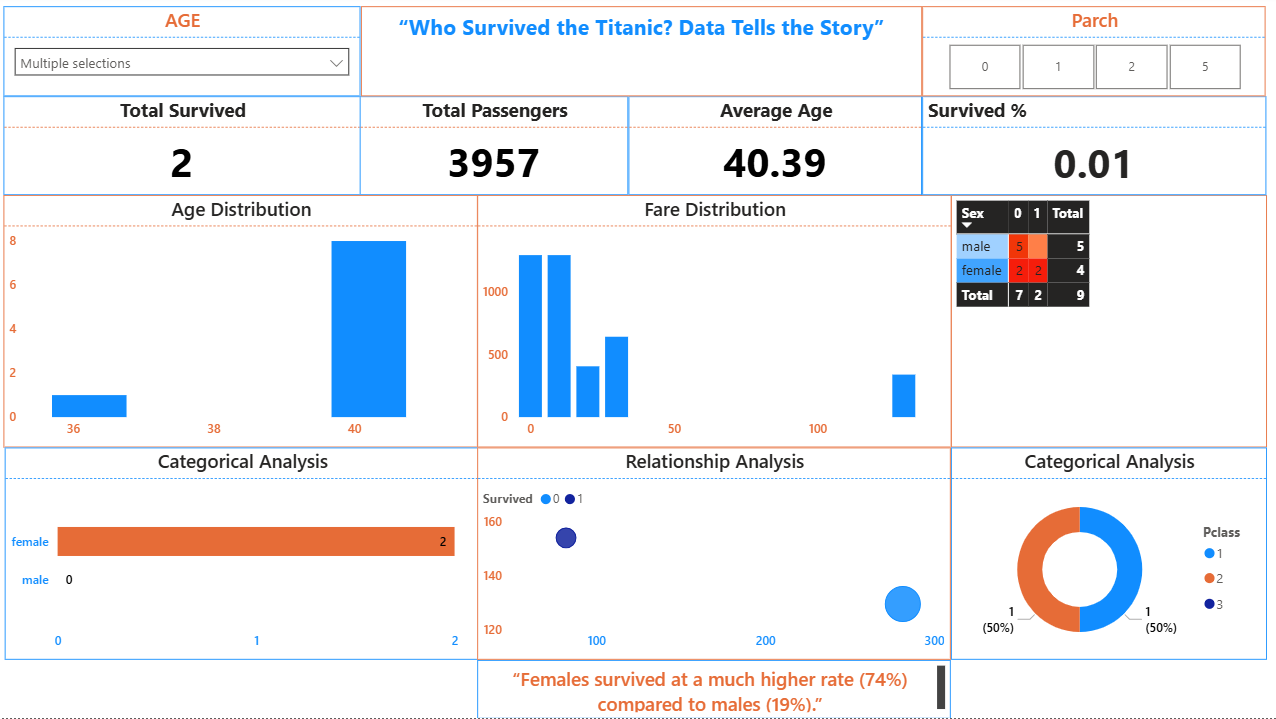

What the dashboard file says about the page in this screenshot:
{"tool":"powerbi","page":{"name":"Page 1","canvas":[1280,720],"ordinal":0},"visuals":[{"type":"card","title":"Total Survived","fields":{"Values":["Sum(train.Survived)"]},"box":[12.4,100.8,355.8,98.3],"z":0},{"type":"card","title":"Total Passengers","fields":{"Values":["Sum(train.PassengerId)"]},"box":[367,100.8,267.5,98.3],"z":1},{"type":"card","title":"Average Age","fields":{"Values":["Avg(train.Age)"]},"box":[634.4,100.8,292.3,98.3],"z":2},{"type":"columnChart","title":"Age Distribution","fields":{"Y":["CountNonNull(train.PassengerId)"],"Category":["train.Age (bins)"]},"box":[13,199.1,471.8,251],"z":3},{"type":"columnChart","title":"Fare Distribution","fields":{"Y":["Sum(train.PassengerId)"],"Category":["train.Fare (bins)"]},"box":[483.3,199.1,471.8,251],"z":4},{"type":"barChart","title":"Categorical Analysis","fields":{"Category":["train.Sex"],"Y":["Sum(train.Survived)"]},"box":[13.2,450.6,472.2,210.9],"z":5},{"type":"scatterChart","title":"Relationship Analysis","fields":{"X":["Sum(train.Age)"],"Y":["Sum(train.Fare)"],"Series":["train.Survived"],"Size":["CountNonNull(train.PassengerId)"]},"box":[484.2,450.6,471,210.9],"z":6},{"type":"pivotTable","fields":{"Rows":["train.Sex"],"Values":["Count(train.PassengerId)"],"Columns":["train.Survived"]},"box":[955.1,199.1,314.5,251],"z":7},{"type":"donutChart","title":"Categorical Analysis","fields":{"Y":["Sum(train.Survived)"],"Category":["train.Pclass"]},"box":[955.2,450.6,314,210.9],"z":8},{"type":"card","title":"Survived %","fields":{"Values":["gender_submission.Survival %"]},"box":[926.7,100.8,342.1,98.3],"z":9},{"type":"slicer","title":"AGE","fields":{"Values":["train.Age"]},"box":[13,11.5,354.9,89.5],"z":11},{"type":"slicer","title":"Parch","fields":{"Values":["train.Parch"]},"box":[926.3,11.5,341.9,89.5],"z":12},{"type":"textbox","box":[367.9,11.5,558.3,89.5],"z":13},{"type":"textbox","box":[483.9,661.8,471.5,58.5],"z":14}]}

Visuals, with their boxes in screenshot pixels (x1, y1, x2, y2), scaled from the page's 1280x720 canvas onto the 1276x719 screenshot:
"Total Survived" card: bbox=[12, 101, 367, 199]
"Total Passengers" card: bbox=[366, 101, 633, 199]
"Average Age" card: bbox=[632, 101, 924, 199]
"Age Distribution" columnChart: bbox=[13, 199, 483, 449]
"Fare Distribution" columnChart: bbox=[482, 199, 952, 449]
"Categorical Analysis" barChart: bbox=[13, 450, 484, 661]
"Relationship Analysis" scatterChart: bbox=[483, 450, 952, 661]
pivotTable - train.Sex x Count(train.PassengerId): bbox=[952, 199, 1266, 449]
"Categorical Analysis" donutChart: bbox=[952, 450, 1265, 661]
"Survived %" card: bbox=[924, 101, 1265, 199]
"AGE" slicer: bbox=[13, 11, 367, 101]
"Parch" slicer: bbox=[923, 11, 1264, 101]
textbox: bbox=[367, 11, 923, 101]
textbox: bbox=[482, 661, 952, 718]
